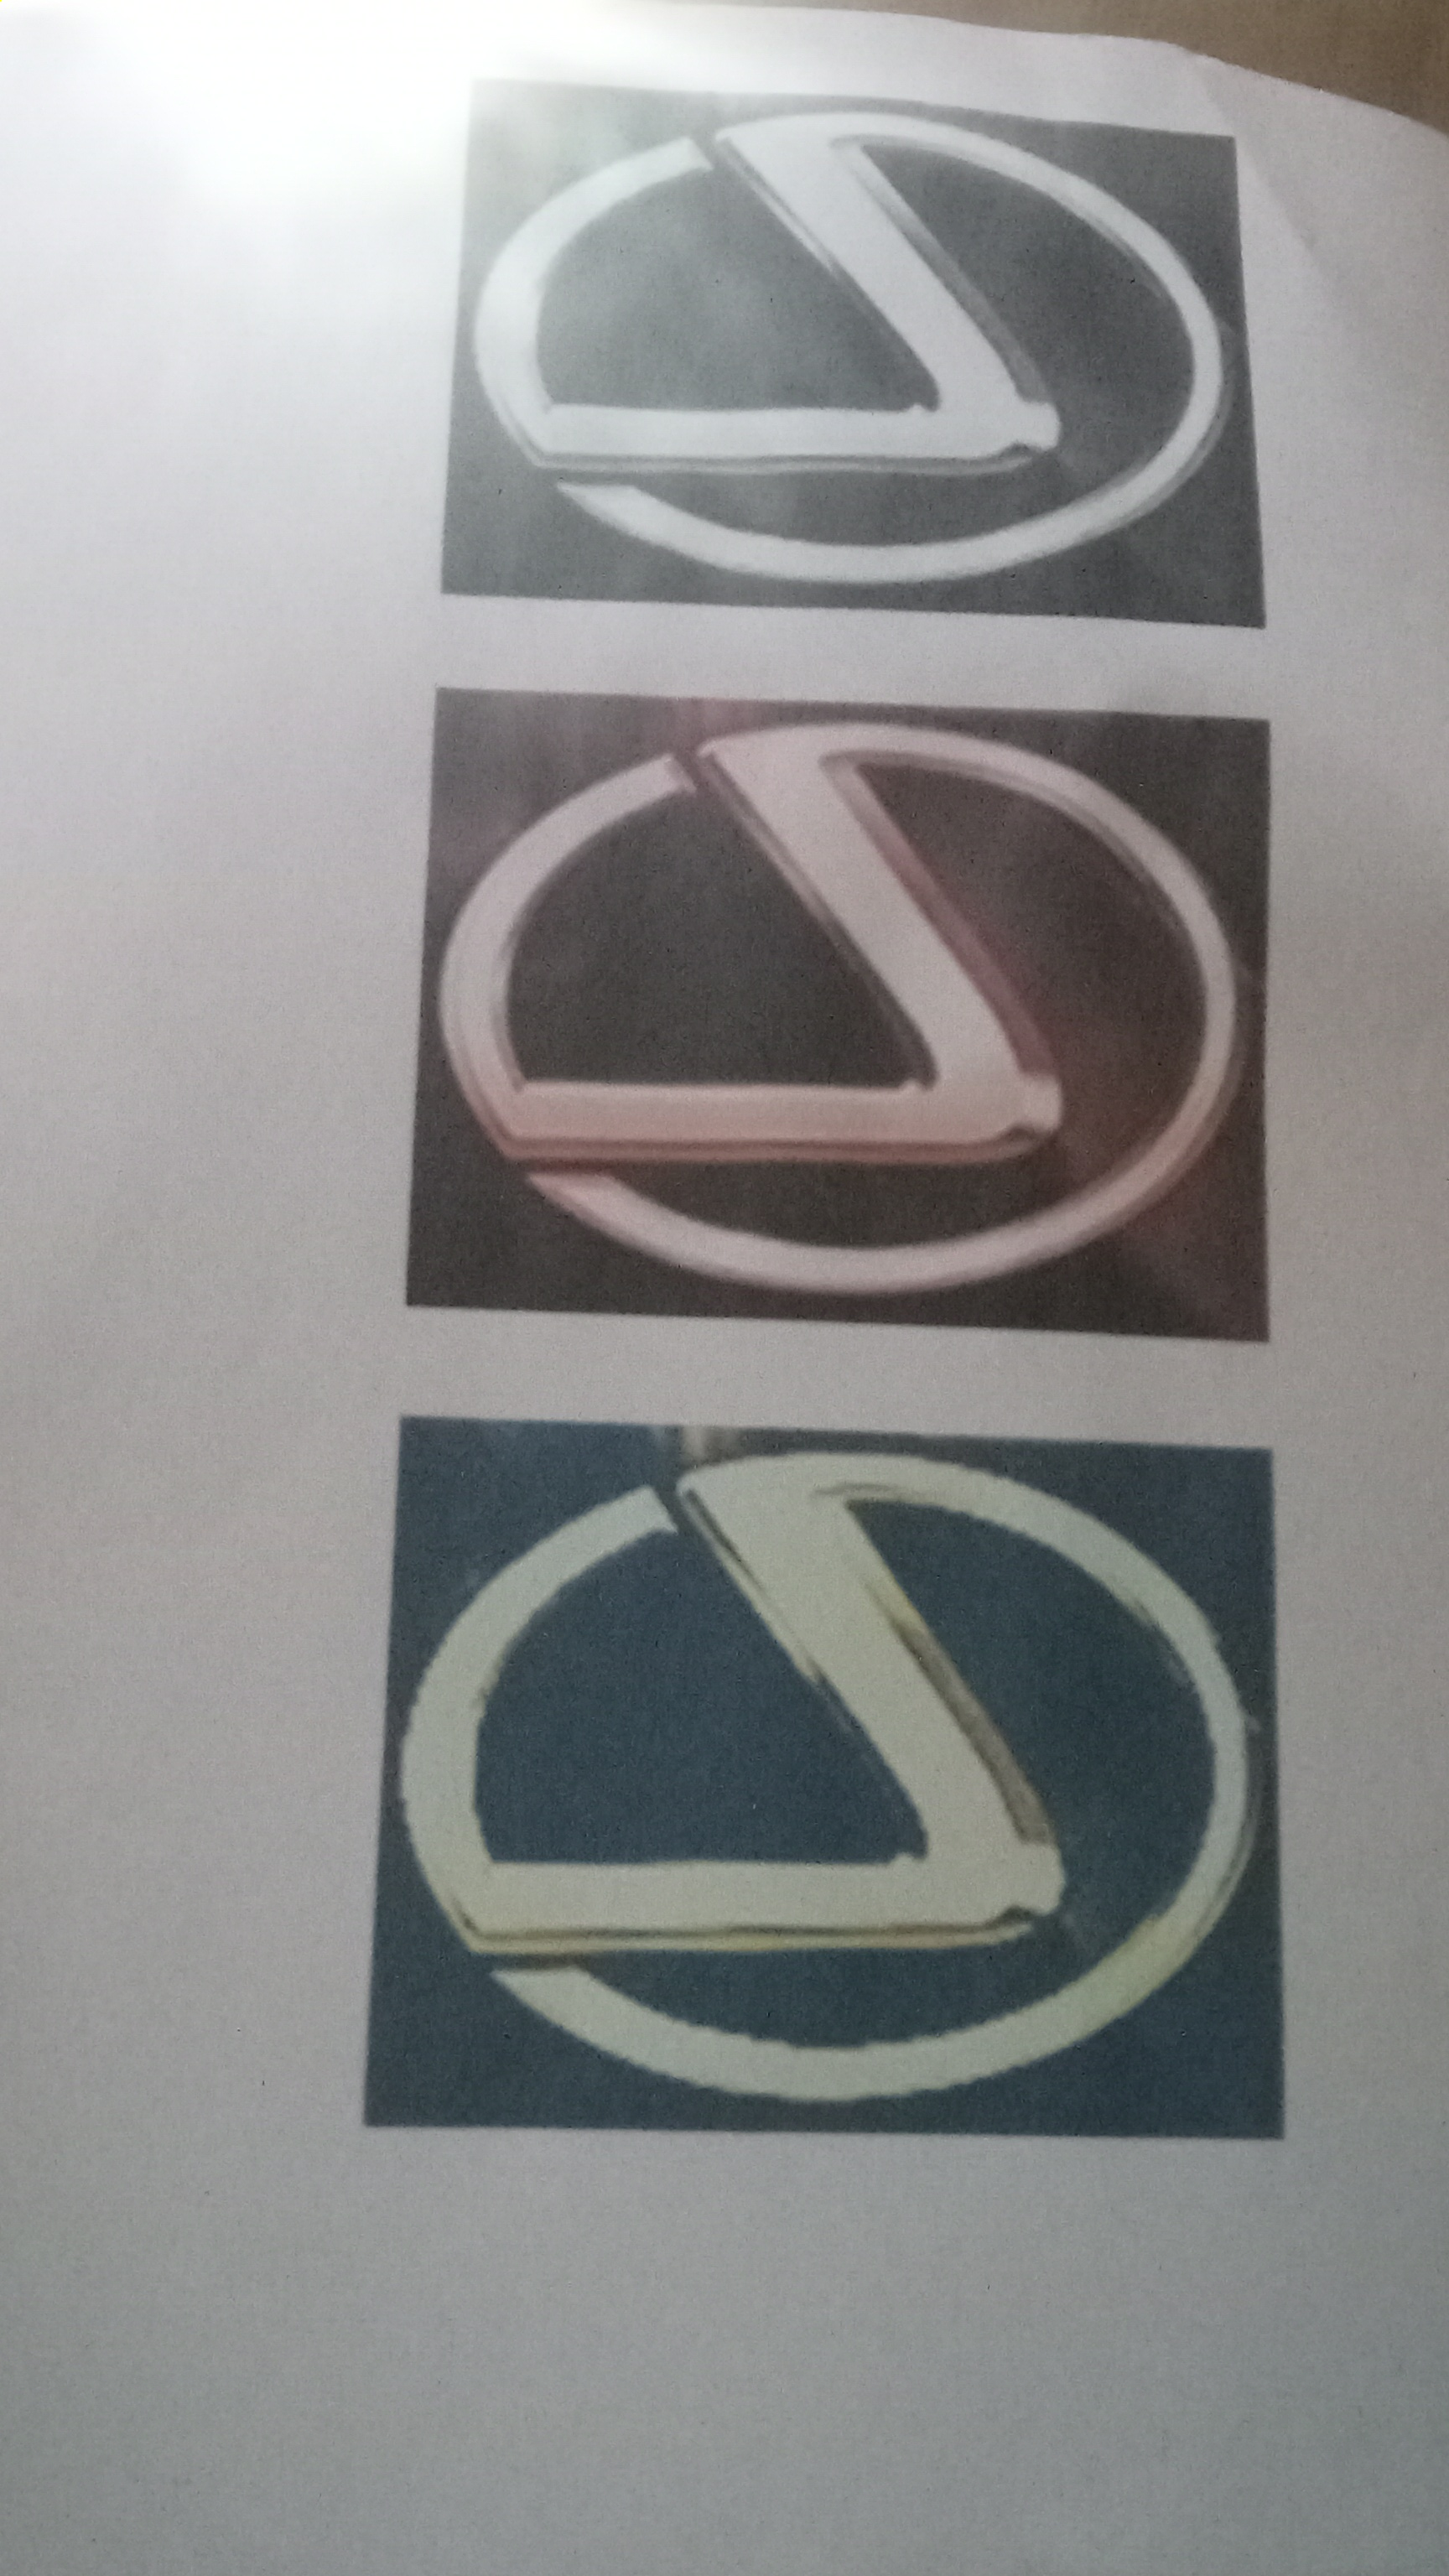Lexus: (393, 1430, 1284, 2130), (435, 701, 1242, 1322), (458, 103, 1242, 605)
